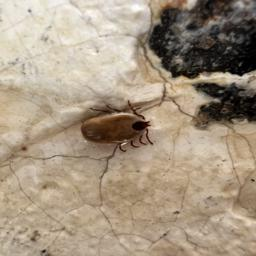Rhipicephalus sanguineus: (82, 99, 153, 152)
